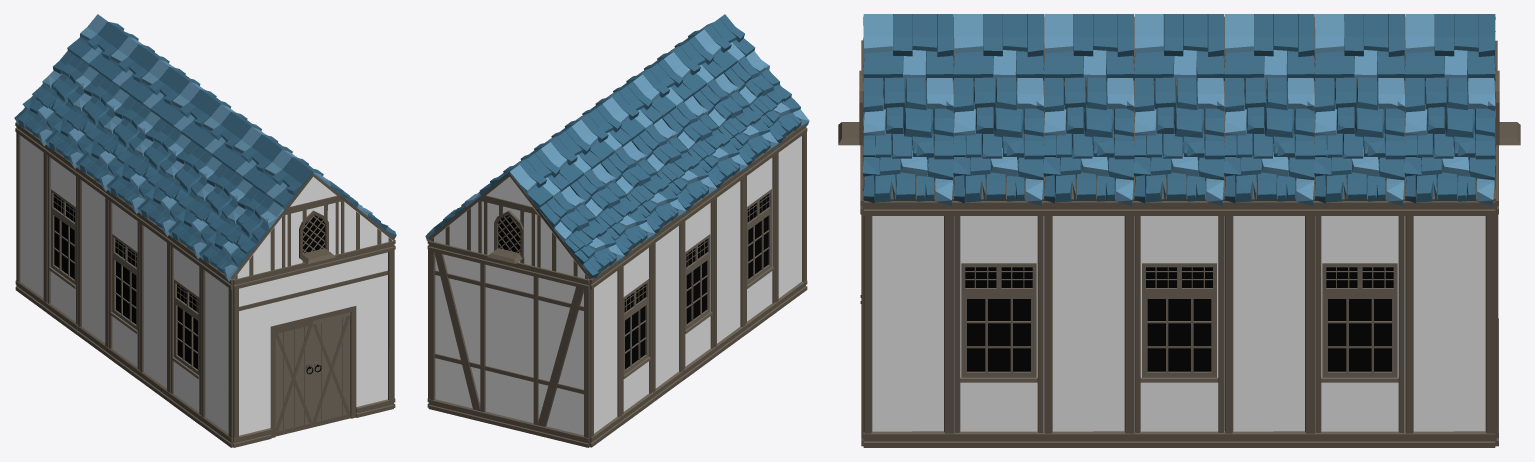
File: House_04_full.fbx
3 renders of one model, left to right at view 1: azimuth 30°, elevation 25°; view 2: azimuth 150°, elevation 25°; view 3: azimuth 270°, elevation 25°, orthographic. The views are drawn at different scales.
Parts seen in each view (by area): view 1: DOOR_03_2, WALL_03_7, WINDOW_04_6, WALL_03_8, WALL_03_10, WINDOW_04_8, WINDOW_04_7, WALL_03_9, ROOF_base_16, ROOF_base_10, ROOF_base_11, ROOF_base_14 (+16 smaller); view 2: WALL_02_2, WALL_03_10, WALL_03_8, WALL_03_7, WALL_03_9, WINDOW_04_6, WINDOW_04_8, WINDOW_04_7, ROOF_base_10, ROOF_base_15, ROOF_base_11, ROOF_base_13 (+15 smaller); view 3: WALL_03_4, WALL_03_6, WINDOW_04_4, WALL_03_5, WALL_03_3, WINDOW_04_5, WINDOW_04_3, ROOF_base_9, ROOF_base_5, ROOF_base_6, ROOF_base_3, ROOF_base_7 (+13 smaller).
Boxes of the visible parts, <box> form: DOOR_03_2: <box>233,241,394,447</box>; WALL_03_7: <box>200,257,233,447</box>; WINDOW_04_6: <box>169,235,201,424</box>; WALL_03_8: <box>138,212,170,402</box>; WALL_03_10: <box>15,122,47,311</box>; WINDOW_04_8: <box>46,145,78,334</box>; WINDOW_04_7: <box>107,190,139,379</box>; WALL_03_9: <box>77,167,108,357</box>; ROOF_base_16: <box>199,186,286,281</box>; ROOF_base_10: <box>14,51,98,146</box>; ROOF_base_11: <box>168,163,252,259</box>; ROOF_base_14: <box>76,95,159,191</box>; WALL_02_2: <box>428,241,589,447</box>; WALL_03_10: <box>589,260,622,447</box>; WALL_03_8: <box>713,170,745,356</box>; WALL_03_7: <box>775,125,807,311</box>; WALL_03_9: <box>652,215,684,402</box>; WINDOW_04_6: <box>744,148,776,334</box>; WINDOW_04_8: <box>621,238,653,424</box>; WINDOW_04_7: <box>683,193,714,379</box>; ROOF_base_10: <box>536,186,624,279</box>; ROOF_base_15: <box>662,96,747,187</box>; ROOF_base_11: <box>693,73,778,165</box>; ROOF_base_13: <box>570,163,655,255</box>; WALL_03_4: <box>1044,201,1134,447</box>; WALL_03_6: <box>1405,201,1495,447</box>; WINDOW_04_4: <box>1134,201,1224,447</box>; WALL_03_5: <box>1224,201,1314,447</box>; WALL_03_3: <box>863,201,953,447</box>; WINDOW_04_5: <box>1315,201,1404,447</box>; WINDOW_04_3: <box>954,201,1043,447</box>; ROOF_base_9: <box>1404,77,1495,205</box>; ROOF_base_5: <box>1043,77,1134,205</box>; ROOF_base_6: <box>1133,75,1224,205</box>; ROOF_base_3: <box>862,76,953,205</box>; ROOF_base_7: <box>1223,76,1315,205</box>.
Bounding box in the file's own units: 320 × 459 × 756.
